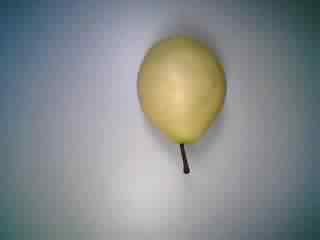pear: (124, 31, 239, 177)
